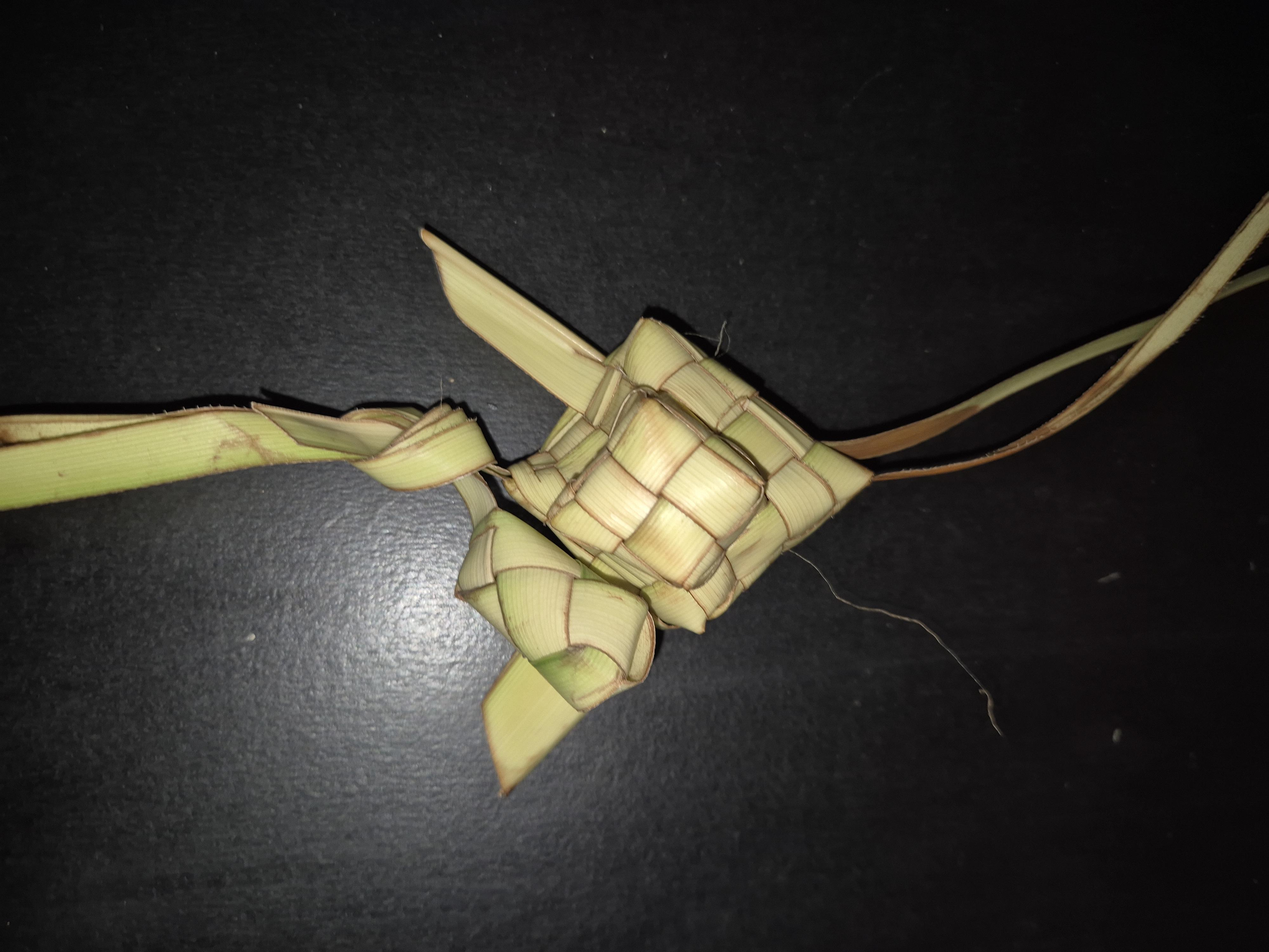Tipat Gong: (426, 378, 843, 654)
